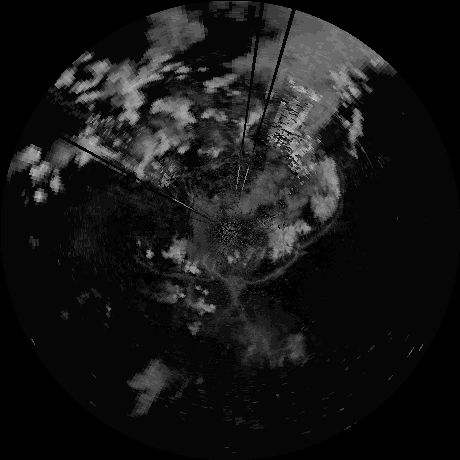frontgust: (216, 255, 295, 287), (297, 205, 342, 248), (148, 266, 213, 284)
